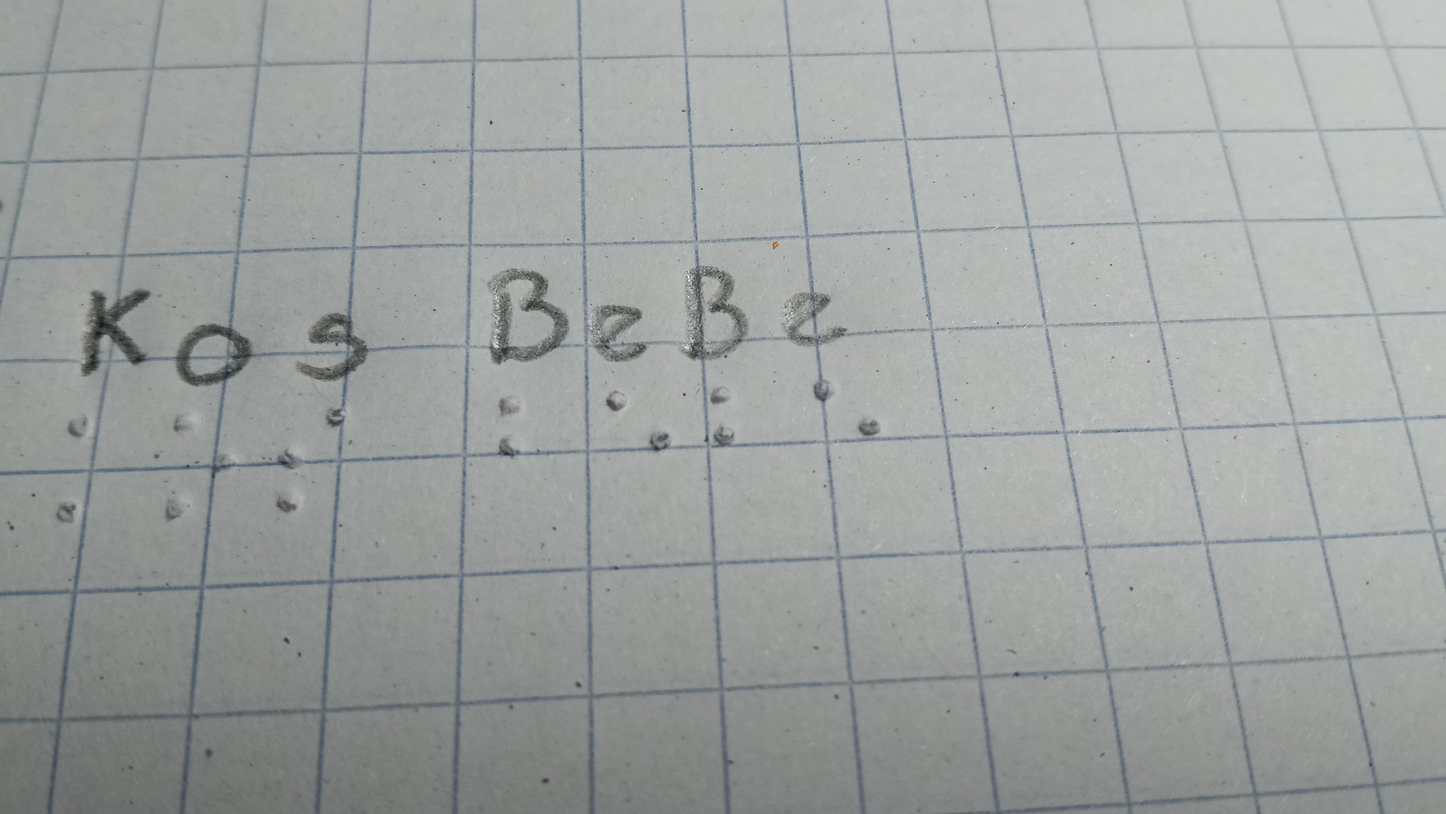b: (477, 378, 562, 472), (695, 370, 750, 459)
e: (594, 365, 684, 463), (796, 374, 898, 443)
k: (43, 392, 121, 539)
o: (156, 401, 248, 528)
s: (257, 401, 369, 535)
